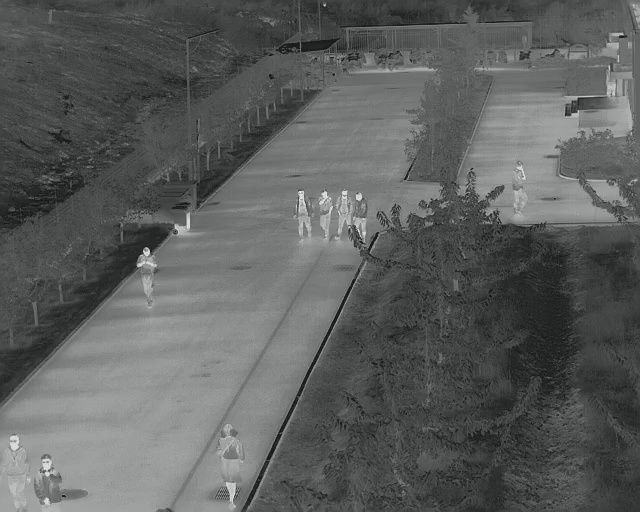person: (216, 421, 241, 505), (5, 433, 30, 510), (34, 453, 62, 511), (136, 247, 160, 310), (290, 186, 314, 237), (511, 155, 530, 218), (315, 187, 334, 239), (337, 187, 352, 238), (354, 189, 371, 234)
